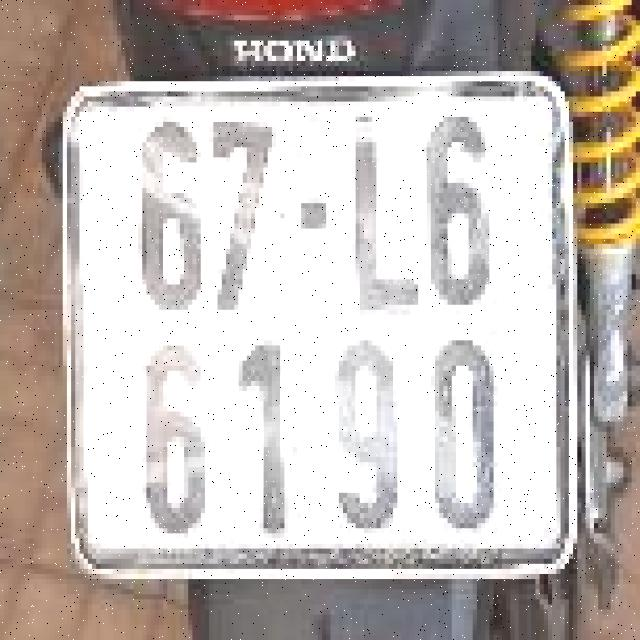0: (427, 317, 489, 526)
1: (228, 323, 295, 556)
6: (414, 102, 506, 315), (128, 99, 207, 307), (138, 332, 209, 530)
7: (201, 107, 284, 310)
9: (314, 323, 406, 551)
L: (330, 96, 431, 315)
